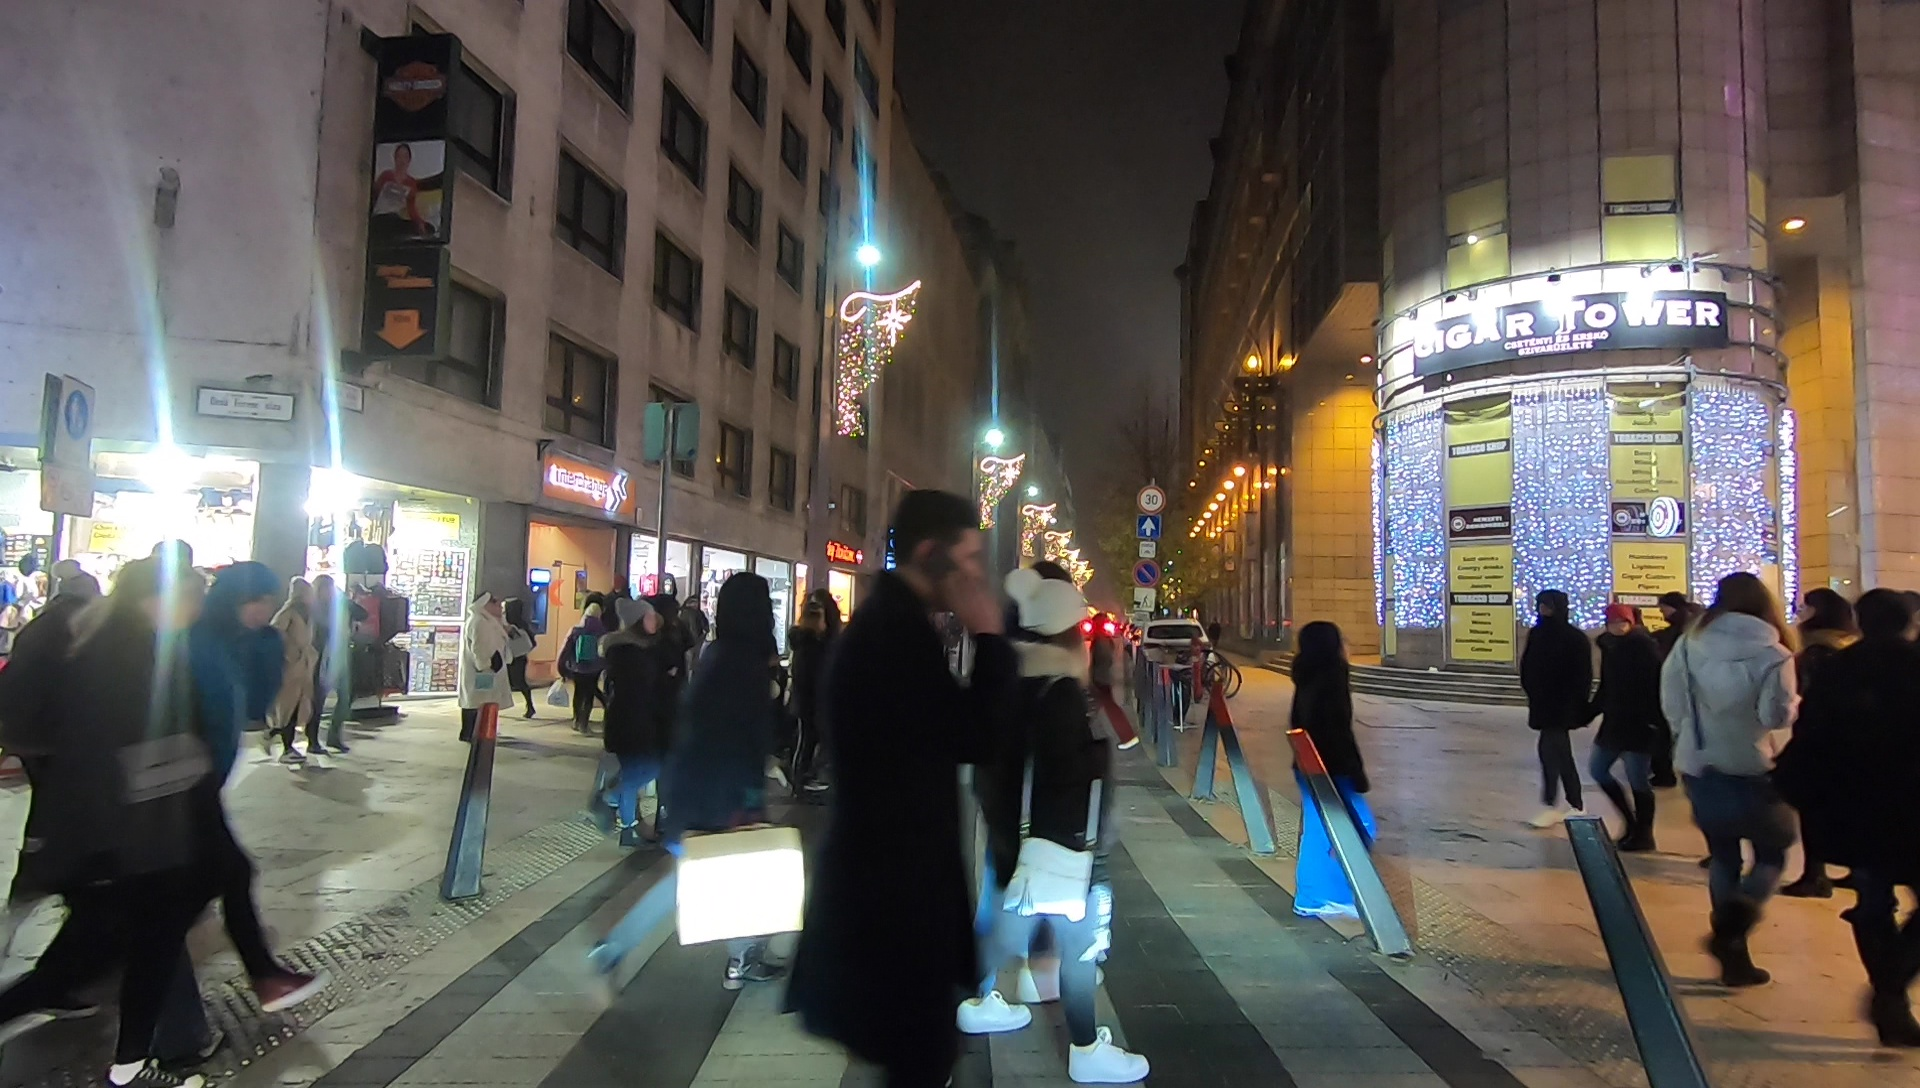person: (815, 490, 997, 1088), (985, 578, 1150, 1088), (64, 571, 210, 1083), (614, 575, 792, 975), (187, 549, 327, 1009), (1673, 569, 1808, 972), (1833, 592, 1920, 1044), (1277, 621, 1377, 919), (1521, 588, 1590, 825), (1596, 603, 1661, 853), (602, 599, 664, 845), (796, 586, 840, 794), (261, 569, 307, 763), (310, 572, 353, 753), (460, 592, 503, 748), (563, 599, 602, 736), (499, 594, 537, 721)
